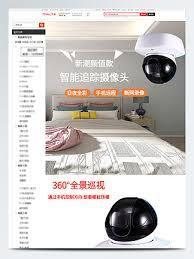maru: (96, 193, 165, 250), (132, 30, 190, 93)
